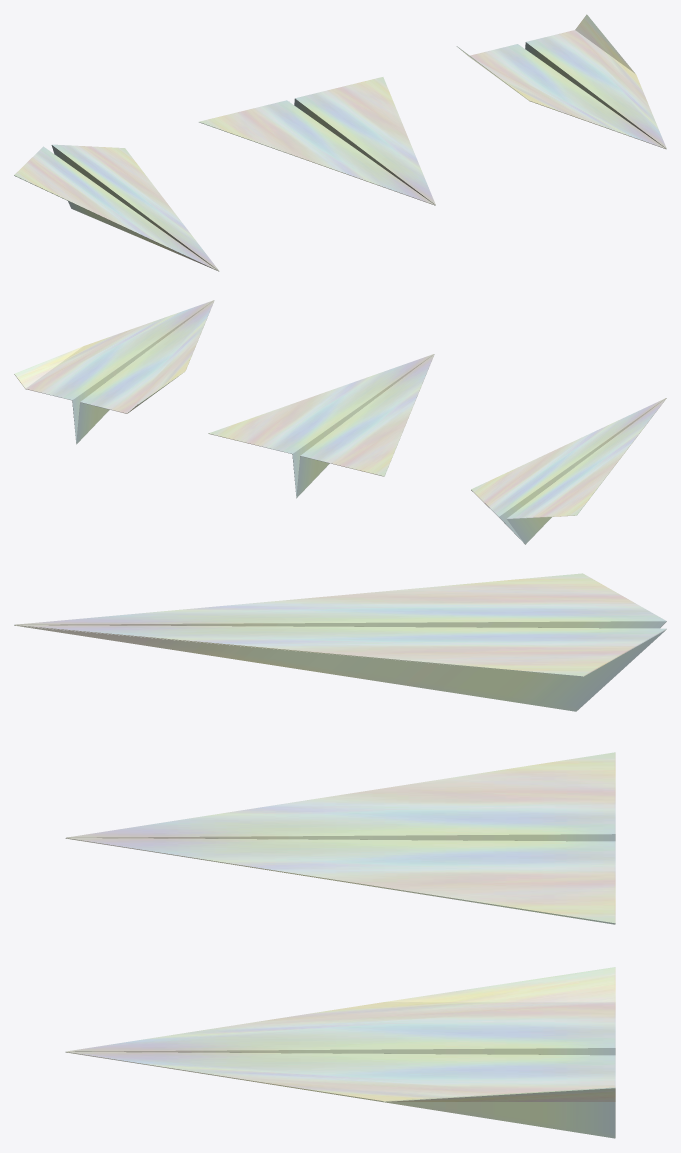
The model's file is Paper_Planes.obj.
The picture shows the model from 3 angles, top to bottom: view 1: azimuth 30°, elevation 25°; view 2: azimuth 150°, elevation 25°; view 3: azimuth 270°, elevation 25°; orthographic projection. The views are drawn at different scales.
Visible parts, largest first — view 1: Regular_Plane_Plane, Plane_With_Raised_Wings_Plane.001, Long_&_Narrow_Plane_Plane.002; view 2: Regular_Plane_Plane, Plane_With_Raised_Wings_Plane.001, Long_&_Narrow_Plane_Plane.002; view 3: Regular_Plane_Plane, Plane_With_Raised_Wings_Plane.001, Long_&_Narrow_Plane_Plane.002.
Boxes of the visible parts, <box> form: Regular_Plane_Plane: <box>199,77,435,205</box>; Plane_With_Raised_Wings_Plane.001: <box>456,14,666,149</box>; Long_&_Narrow_Plane_Plane.002: <box>14,144,219,271</box>; Regular_Plane_Plane: <box>208,354,434,498</box>; Plane_With_Raised_Wings_Plane.001: <box>14,300,214,444</box>; Long_&_Narrow_Plane_Plane.002: <box>471,398,666,544</box>; Regular_Plane_Plane: <box>65,752,615,924</box>; Plane_With_Raised_Wings_Plane.001: <box>65,967,615,1138</box>; Long_&_Narrow_Plane_Plane.002: <box>14,573,666,711</box>.
Size of the model in its own units: 7.41 by 0.7146 by 3.8.
1 material, 1 textured.
